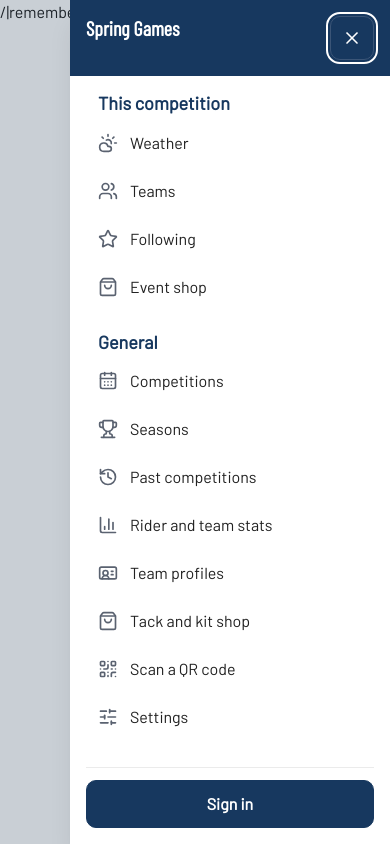
Test: NavigationDrawer: following a competition › links to the competition’s extra pages (omitting duplicate bottom-tab links)
This screenshot has width=390, height=844.
Click the link "Tack and kit shop" at (174,621), box [98,611,250,631]
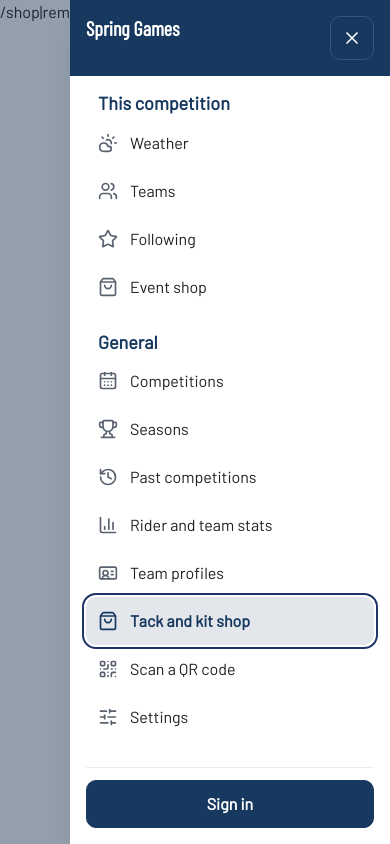
Expected: the text with test id "probe" shows "/shop", [0,2,40,21]
